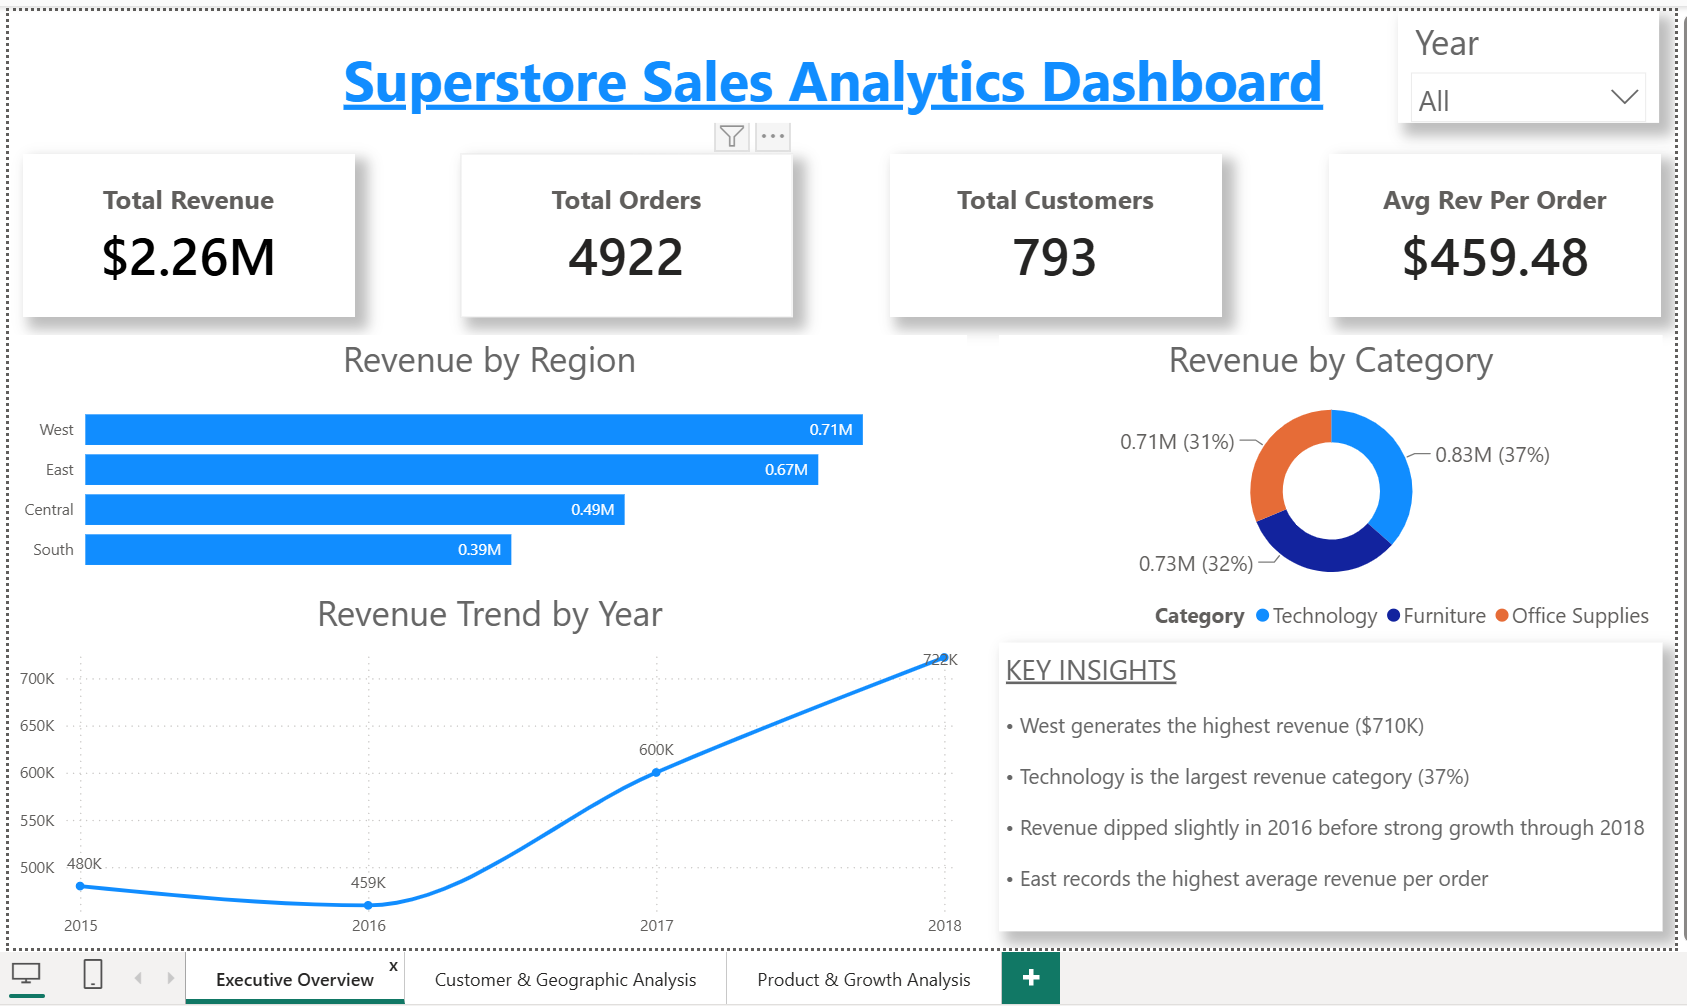

This screenshot's page, from the dashboard's own definition file:
{"tool":"powerbi","page":{"name":"Executive Overview","canvas":[1280,720],"ordinal":0},"visuals":[{"type":"cardVisual","fields":{"Data":["train.Total Revenue"]},"box":[10,110,255.1,125],"z":0},{"type":"cardVisual","fields":{"Data":["train.Avg Revenue Per Order"]},"box":[1015,110,255,125],"z":1000},{"type":"cardVisual","fields":{"Data":["train.Total Customers"]},"box":[677,110,255,125],"z":2000},{"type":"cardVisual","fields":{"Data":["train.Total Orders"]},"box":[347,110,255,125],"z":3000},{"type":"textbox","box":[0,0,1067.1,85.7],"z":4000},{"type":"clusteredBarChart","title":"Revenue by Region","fields":{"Category":["train.Region"],"Y":["train.Total Revenue"]},"box":[1.9,249.2,734.1,194.7],"z":5000},{"type":"donutChart","title":"Revenue by Category","fields":{"Category":["train.Category"],"Y":["train.Total Revenue"]},"box":[761.4,249.2,510.2,235.6],"z":6000},{"type":"lineChart","title":"Revenue Trend by Year","fields":{"Y":["train.Total Revenue"],"Category":["train.Year"]},"box":[1.9,444,734.1,276.5],"z":7000},{"type":"slicer","fields":{"Values":["train.Year"]},"box":[1068,0,200.6,85.7],"z":8000},{"type":"textbox","box":[761.4,484.9,510.2,222],"z":9000}]}

Visuals, with their boxes on the page's 1280x720 design canvas (x1, y1, x2, y2). These are canvas units, not pixel positions in the 1687x1006 screenshot, which may show the page scaled, cropped or inside an application window:
cardVisual - train.Total Revenue: [10, 110, 265, 235]
cardVisual - train.Avg Revenue Per Order: [1015, 110, 1270, 235]
cardVisual - train.Total Customers: [677, 110, 932, 235]
cardVisual - train.Total Orders: [347, 110, 602, 235]
textbox: [0, 0, 1067, 86]
"Revenue by Region" clusteredBarChart: [2, 249, 736, 444]
"Revenue by Category" donutChart: [761, 249, 1272, 485]
"Revenue Trend by Year" lineChart: [2, 444, 736, 720]
slicer - train.Year: [1068, 0, 1269, 86]
textbox: [761, 485, 1272, 707]
